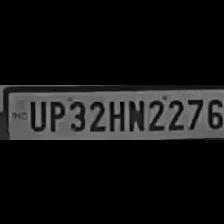2: (164, 96, 184, 130), (87, 96, 105, 132), (146, 96, 164, 132)
3: (66, 96, 86, 132)
6: (202, 96, 222, 128)
7: (184, 94, 202, 130)
H: (105, 96, 125, 130)
N: (125, 96, 144, 132)
P: (46, 96, 64, 132)
U: (26, 97, 44, 130)
